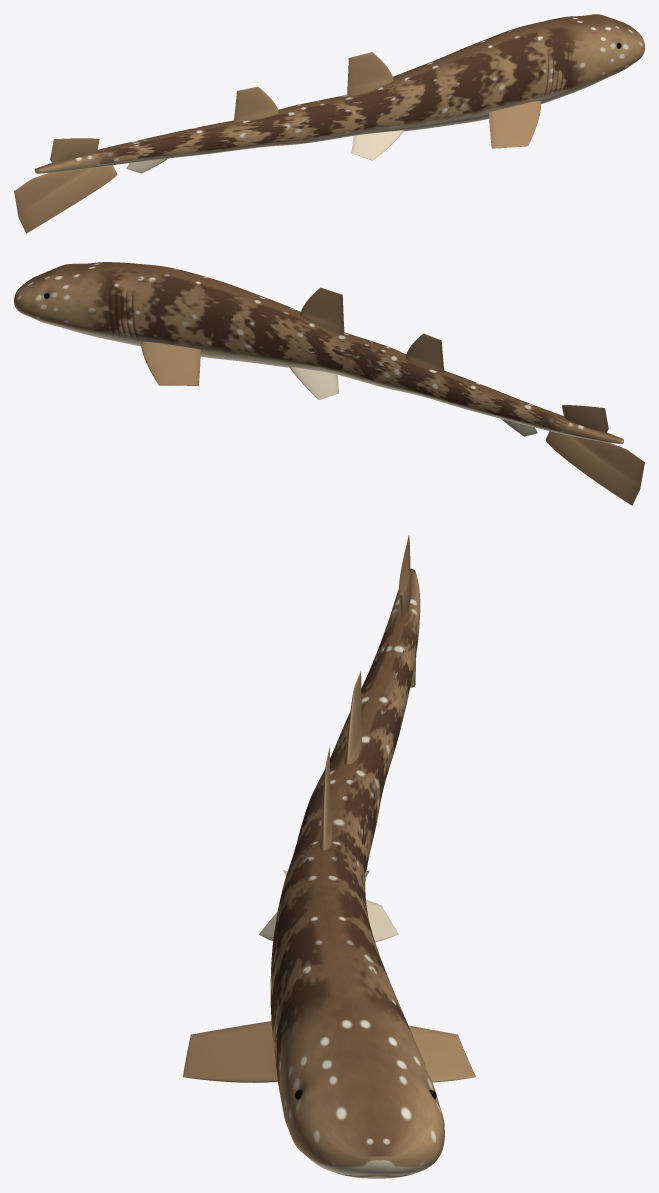
The model's file is whitespotted_bambooshark.glb.
3 views of the same model, one above another, from view 1: azimuth 30°, elevation 25°; view 2: azimuth 150°, elevation 25°; view 3: azimuth 270°, elevation 25° (orthographic). The views are drawn at different scales.
Visible parts, largest first — view 1: WhitespottedBambooShark_Body, WhitespottedBambooShark_Fins; view 2: WhitespottedBambooShark_Body, WhitespottedBambooShark_Fins; view 3: WhitespottedBambooShark_Body, WhitespottedBambooShark_Fins.
Part boxes in pixels (left/top/right/bottom): WhitespottedBambooShark_Body: left=34, top=14, right=644, bottom=173; WhitespottedBambooShark_Fins: left=14, top=52, right=540, bottom=233; WhitespottedBambooShark_Body: left=14, top=262, right=623, bottom=444; WhitespottedBambooShark_Fins: left=141, top=287, right=644, bottom=505; WhitespottedBambooShark_Body: left=270, top=568, right=444, bottom=1178; WhitespottedBambooShark_Fins: left=183, top=535, right=475, bottom=1082.
Size of the model in its own units: 0.7 by 0.1281 by 0.1442.
Materials: 3 (1 with a texture image).
